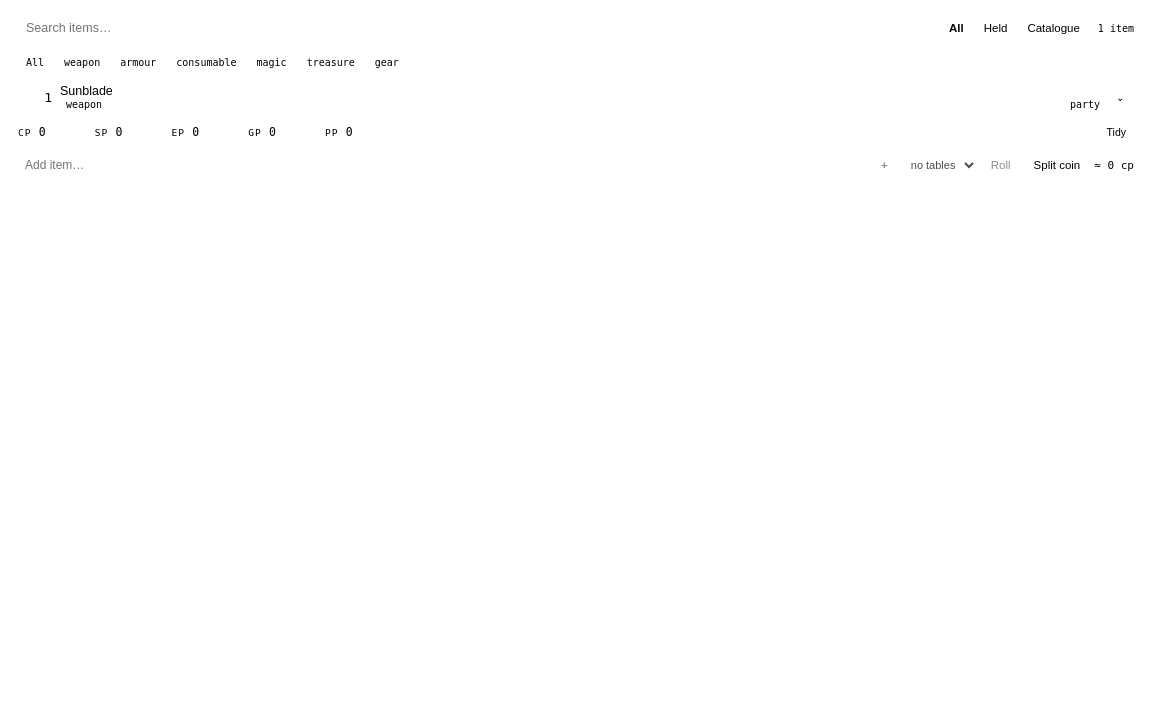
Scenario: Items weapon and armour detail › headlines the damage range the card derives from the notation
Click the text "Sunblade": (86, 91) 60,84 -> 113,98
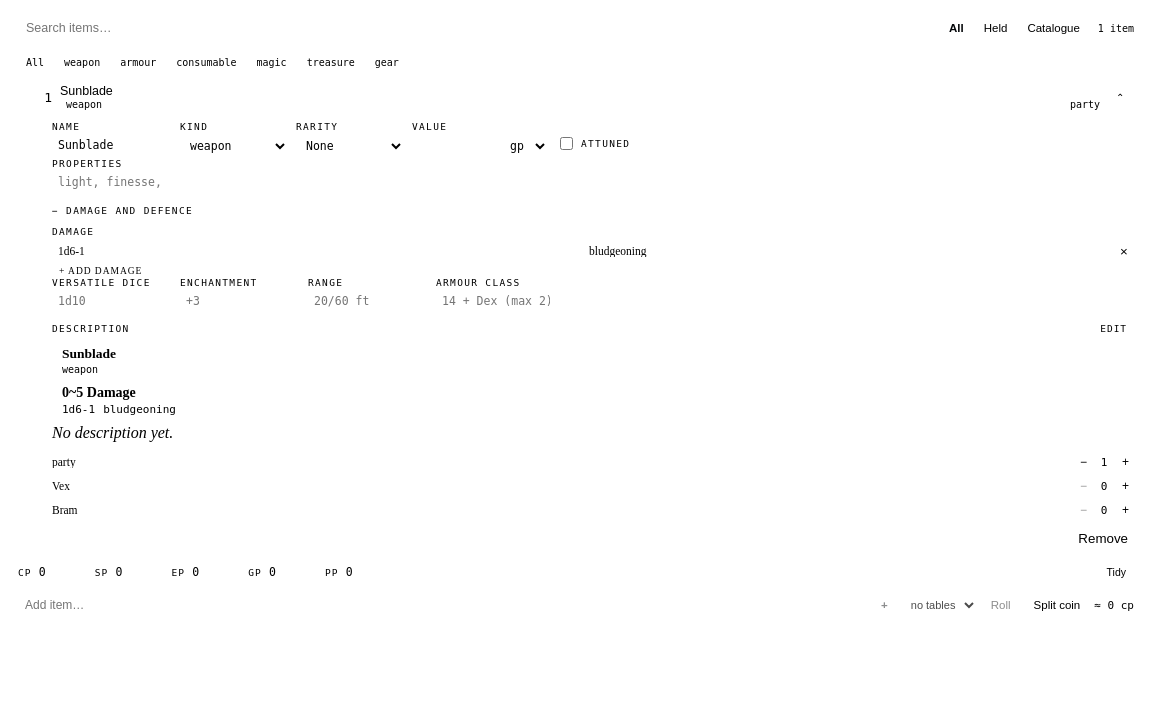
Expected: the text "0~5 Damage" is shown, 62,385 -> 136,400
Expected: the text "bludgeoning" is shown, 103,403 -> 176,416
